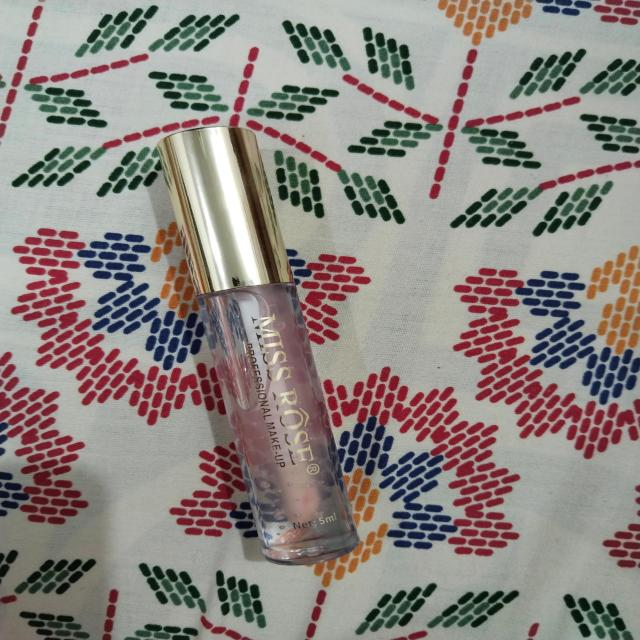lip gloss: (138, 110, 387, 576)
